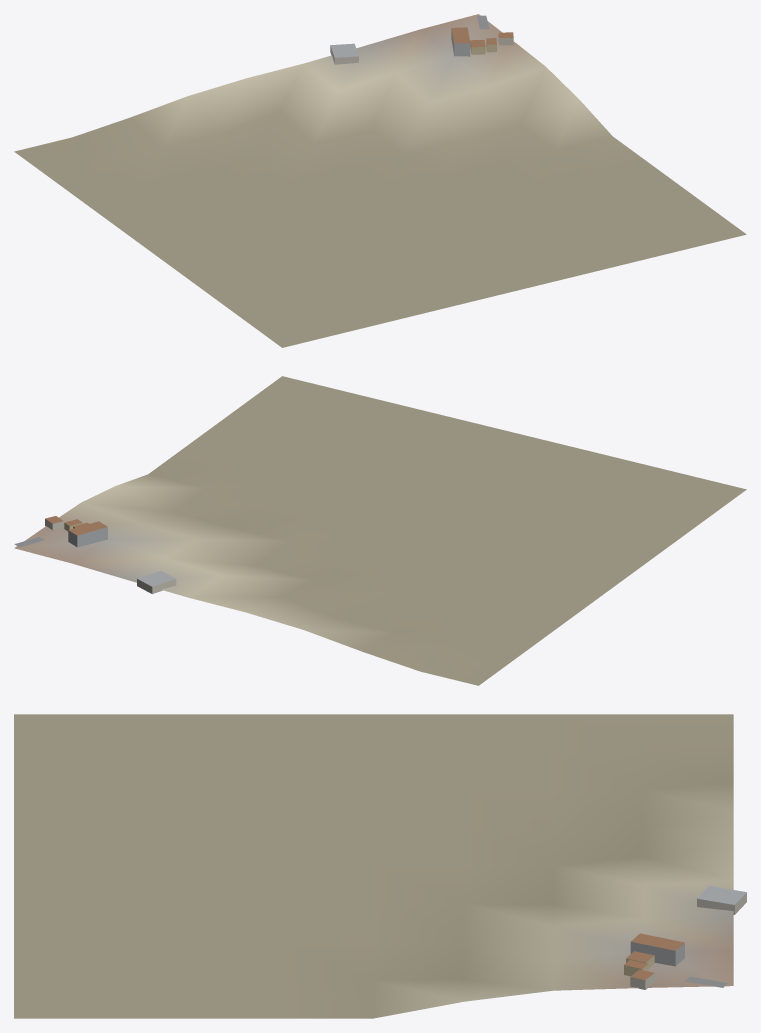
The picture shows the model from 3 angles, top to bottom: view 1: azimuth 30°, elevation 25°; view 2: azimuth 150°, elevation 25°; view 3: azimuth 270°, elevation 25°; orthographic projection. The views are drawn at different scales.
Parts seen in each view (by area): view 1: Lo; view 2: Lo; view 3: Lo.
Part boxes in pixels (x1=…): Lo: x1=14, y1=14, x2=746, y2=347; Lo: x1=14, y1=376, x2=746, y2=685; Lo: x1=14, y1=714, x2=746, y2=1018.
Bounding box in the file's own units: 258 × 18.2 × 261.
